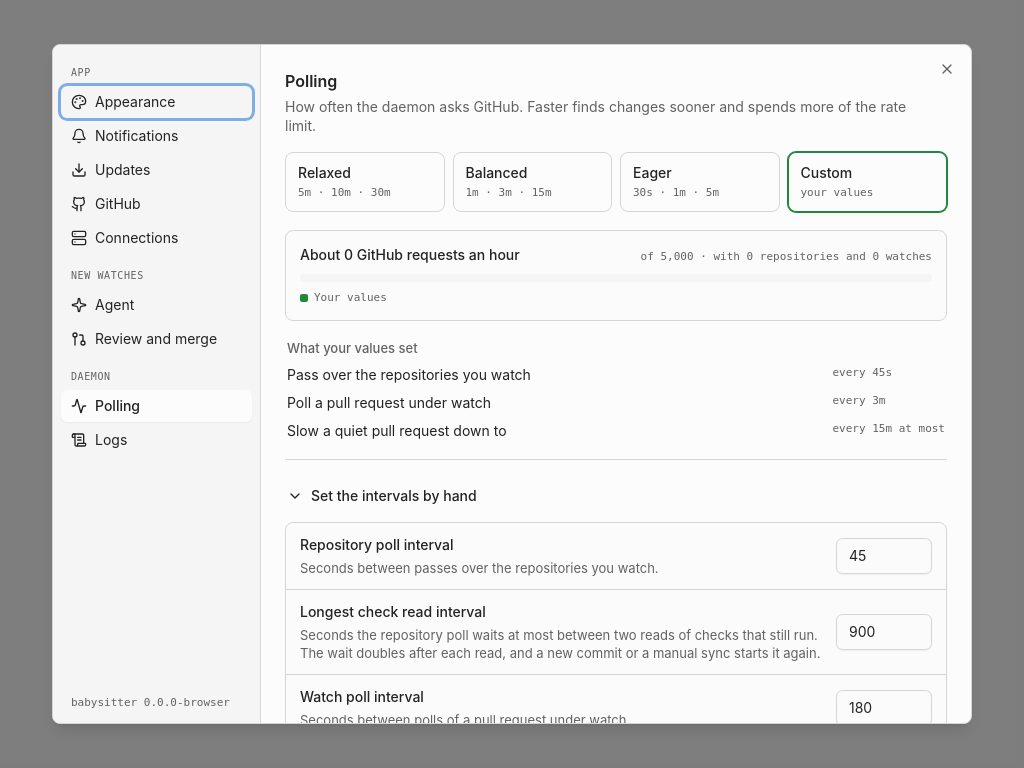
a number the daemon refuses after you left its page shows why under the navigation
Clear the number field labelled "Watch poll interval" at (884, 708), box [836,690,932,726]
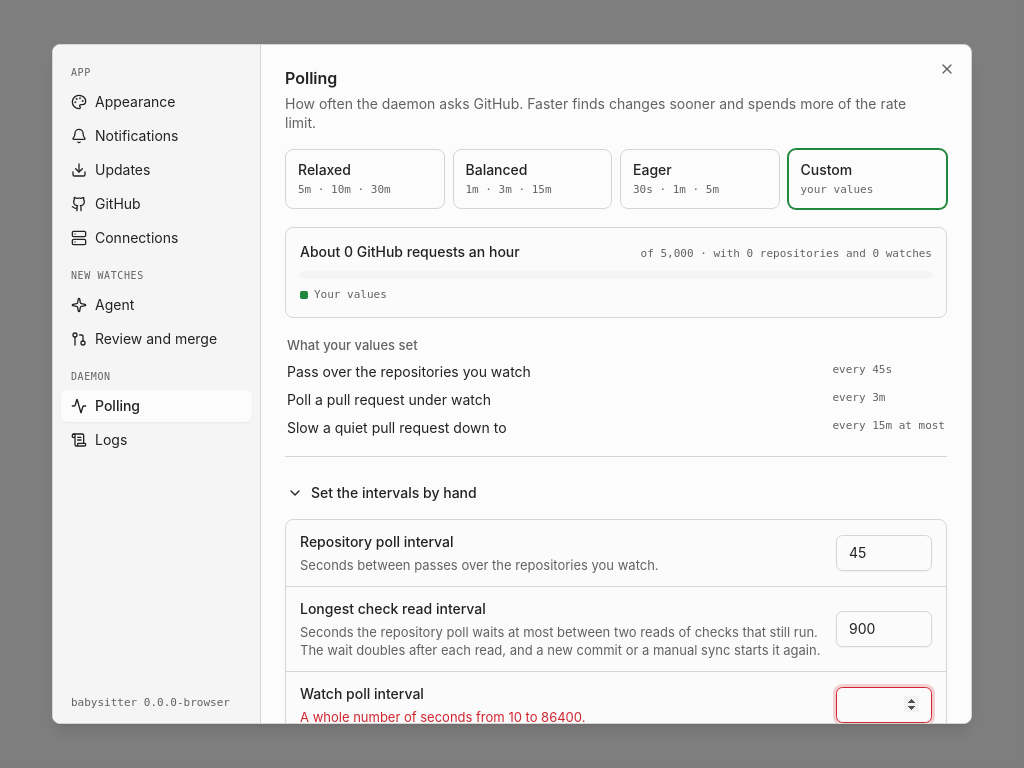
Type "90" into the number field labelled "Watch poll interval" at (884, 704), box [836,686,932,722]
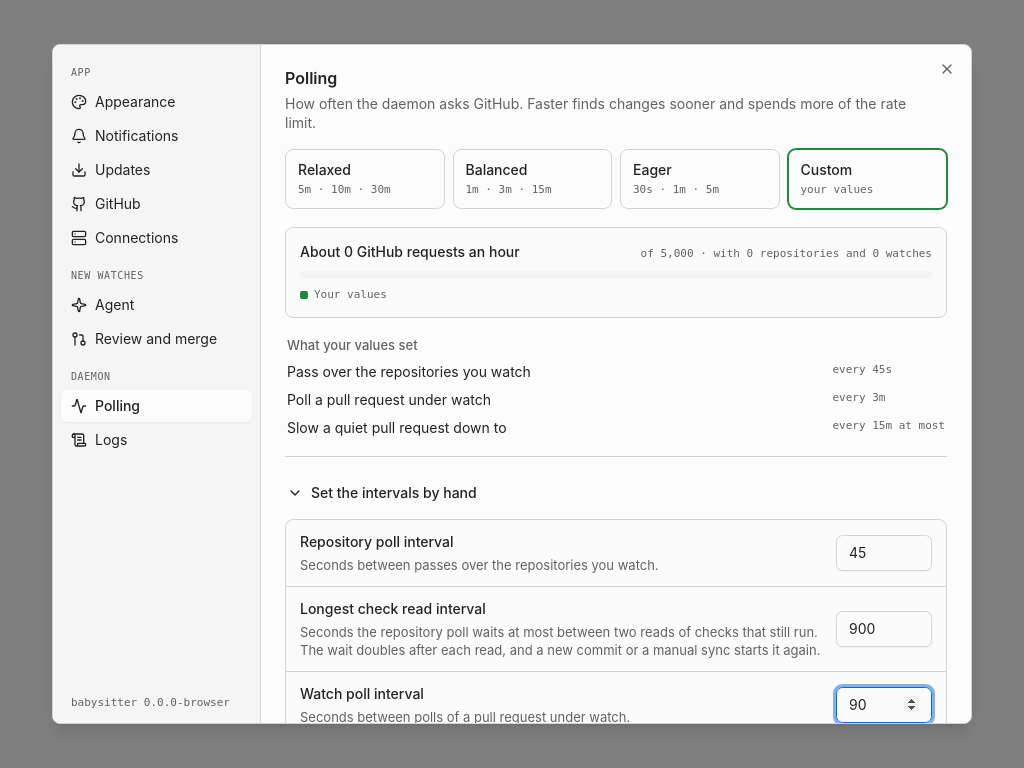
Click the button "Logs" at (156, 440), box [61,424,252,456]
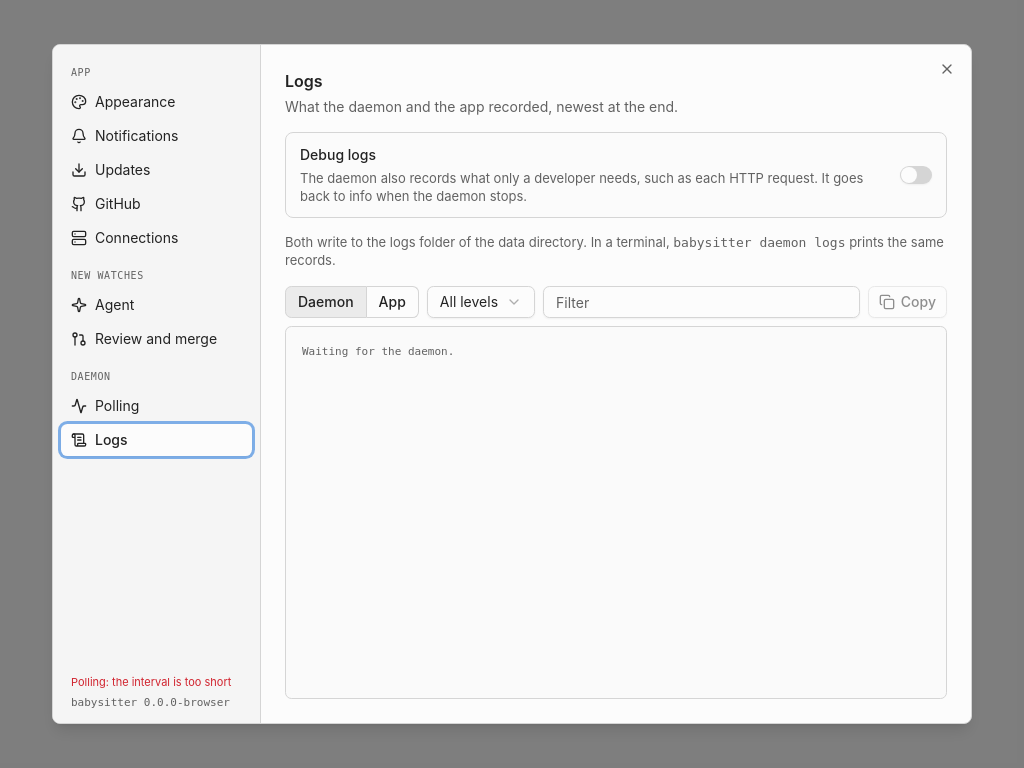
expect the text "Polling: the interval is too short" is shown: met, box [71,675,231,689]
